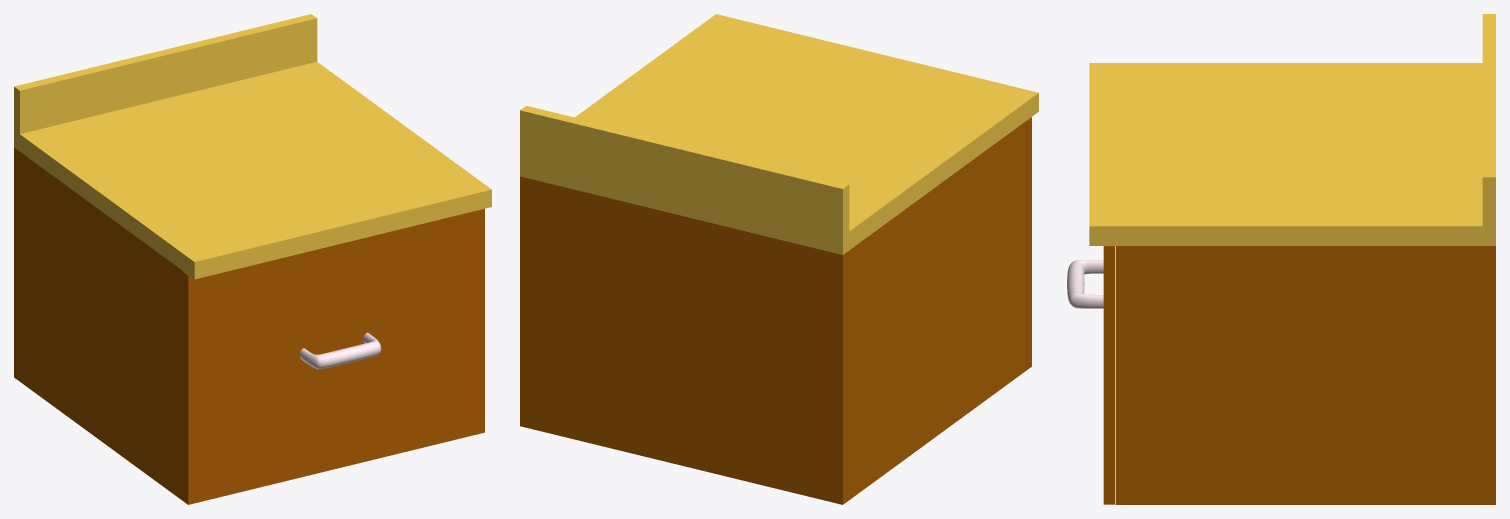
File: counterFinal.fbx
3 renders of one model, left to right at view 1: azimuth 30°, elevation 25°; view 2: azimuth 150°, elevation 25°; view 3: azimuth 270°, elevation 25°, orthographic. The views are drawn at different scales.
Visible parts, largest first — view 1: Countertop1, Cabinet1_Door, Cabinet1, Handle; view 2: Cabinet1, Countertop1, Cabinet1_Door; view 3: Cabinet1, Countertop1, Cabinet1_Door, Handle.
Boxes of the visible parts, <box> form: Countertop1: <box>14,14,491,279</box>; Cabinet1_Door: <box>183,208,484,504</box>; Cabinet1: <box>14,147,183,500</box>; Handle: <box>300,332,381,369</box>; Cabinet1: <box>520,121,1025,504</box>; Countertop1: <box>520,14,1038,254</box>; Cabinet1_Door: <box>1026,117,1031,370</box>; Cabinet1: <box>1115,246,1495,504</box>; Countertop1: <box>1089,14,1495,245</box>; Cabinet1_Door: <box>1103,246,1114,504</box>; Handle: <box>1067,260,1103,308</box>.
Bounding box in the file's own units: 570 × 533 × 632.
